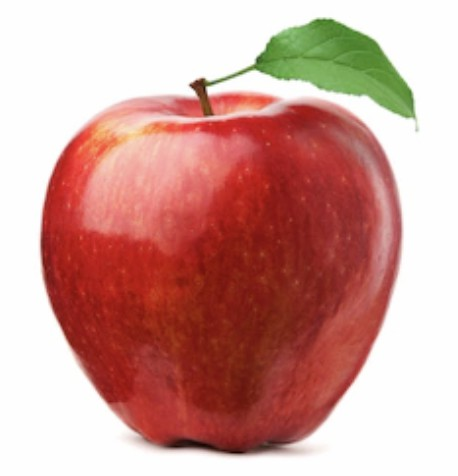fresh_apple: (42, 95, 406, 452)
